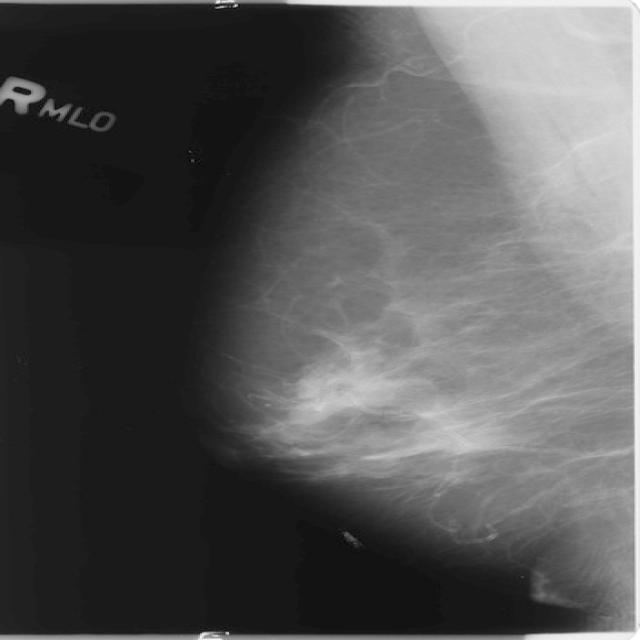tumour: (291, 376, 322, 398)
